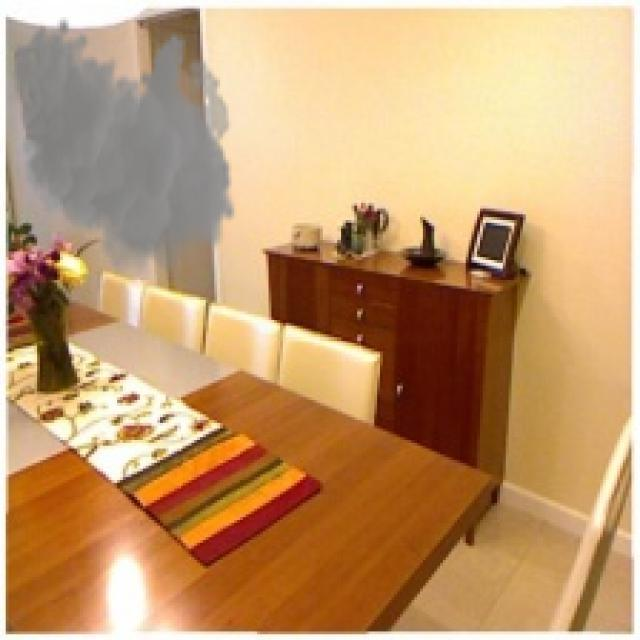Smoke: (11, 17, 238, 286)
